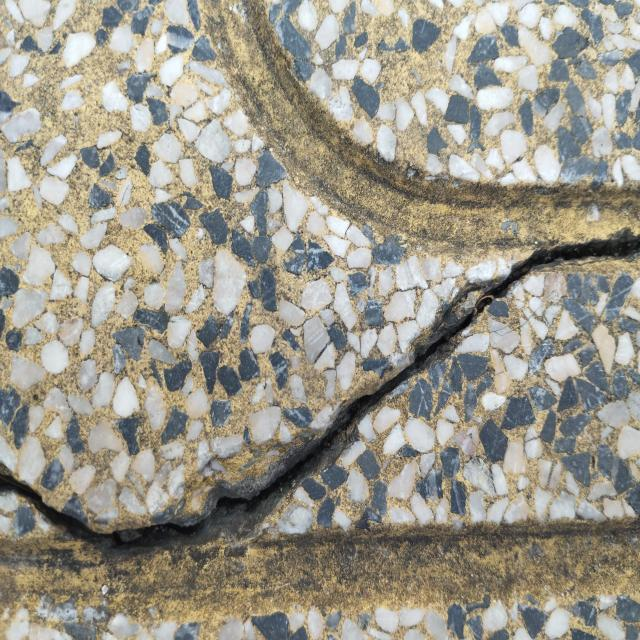curved crack: (0, 237, 640, 550)
